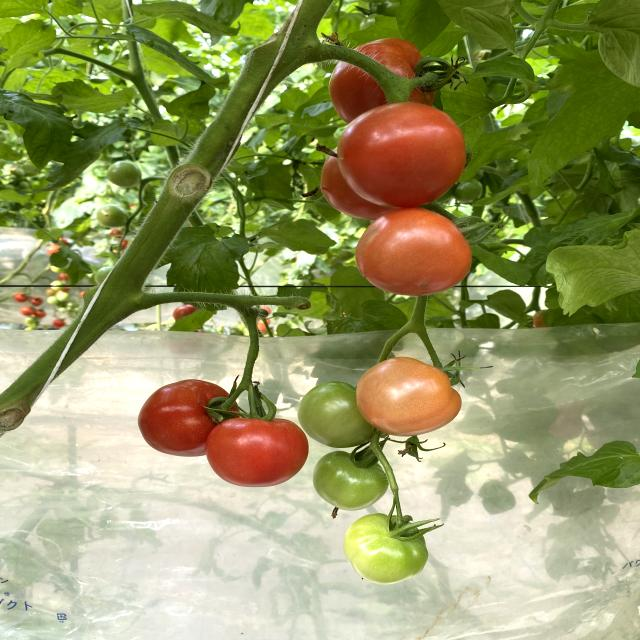ripe0: (347, 514, 427, 585), (315, 450, 389, 512)
ripe1: (359, 357, 462, 436)
ripe2: (336, 102, 465, 207), (356, 209, 473, 299), (206, 416, 309, 487), (138, 379, 220, 455)
